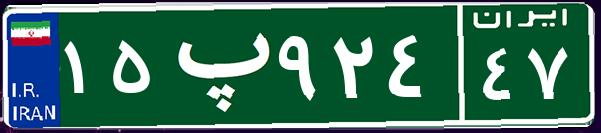1: (57, 26, 110, 107)
2: (330, 28, 385, 110)
4: (385, 28, 445, 110), (475, 38, 525, 113)
5: (110, 28, 158, 105)
7: (525, 38, 570, 115)
9: (273, 28, 330, 110)
پ: (158, 15, 273, 115)
